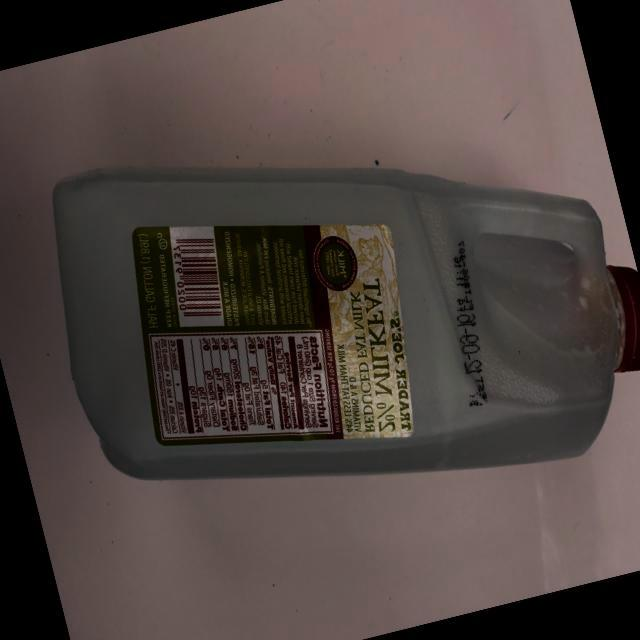plastic: (9, 31, 640, 577)
